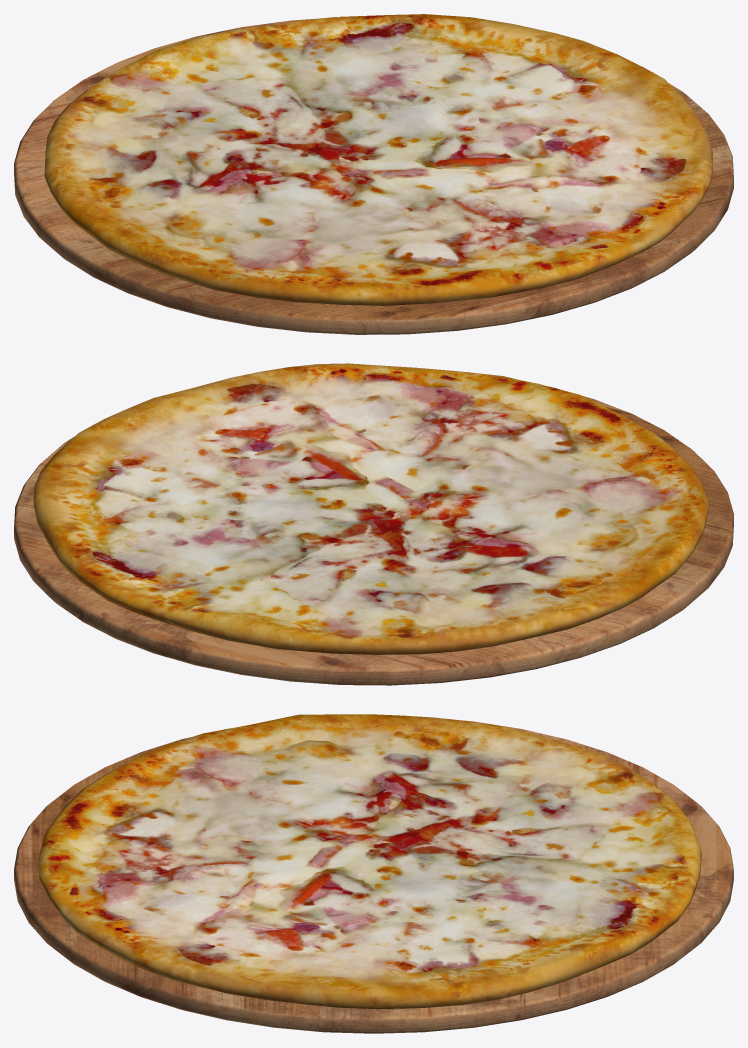
The model's file is pizza.glb.
3 views of the same model, one above another, from view 1: azimuth 30°, elevation 25°; view 2: azimuth 150°, elevation 25°; view 3: azimuth 270°, elevation 25° (orthographic).
Visible parts, largest first — view 1: Pizza, Wood; view 2: Pizza, Wood; view 3: Pizza, Wood.
Part boxes in pixels (box(x1,y1,x2,y2)): Pizza: box(44, 14, 712, 305); Wood: box(14, 18, 733, 334); Pizza: box(33, 363, 709, 654); Wood: box(14, 386, 733, 685); Pizza: box(39, 714, 701, 1009); Wood: box(14, 721, 733, 1033).
Size of the model in its own units: 0.4184 by 0.0225 by 0.4184.
2 materials, 2 textured.
